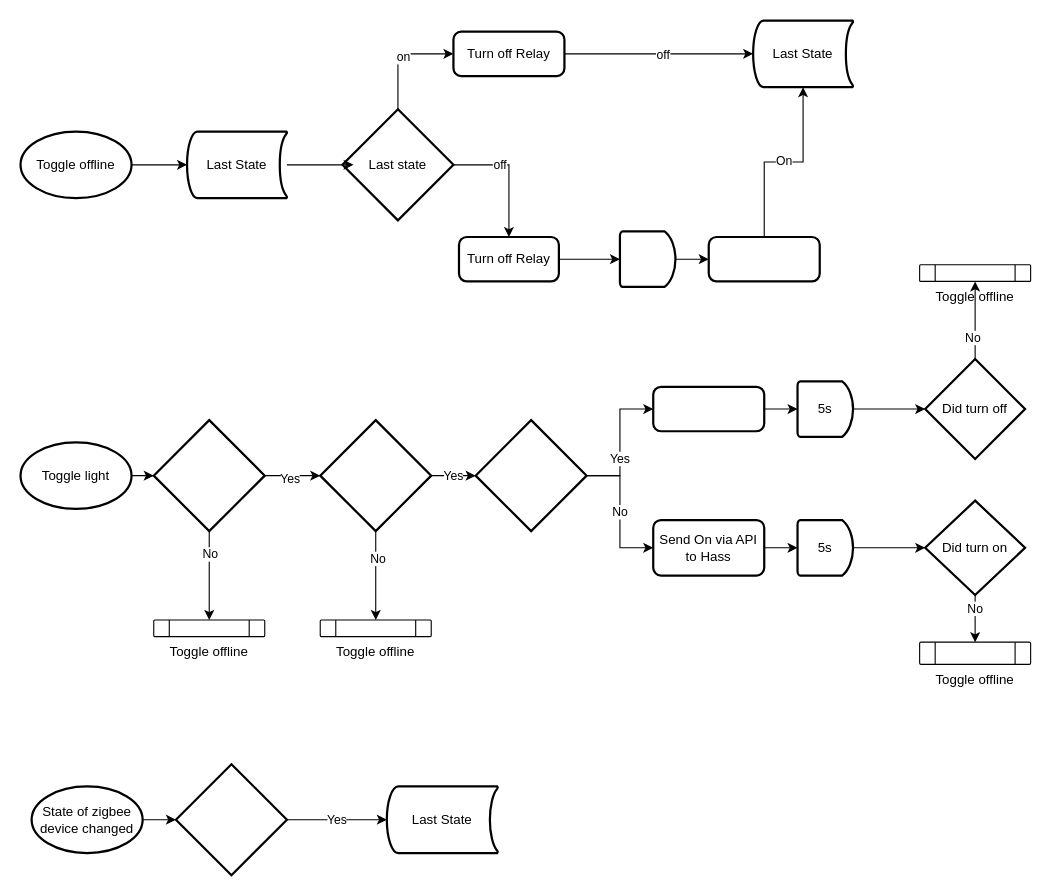
This 1050x895 diagram has some shape labels left out. Each missing label, with the box of its shape:
1s: (618, 230, 676, 287)
Is API connected: (152, 418, 265, 532)
Is available: (174, 763, 287, 876)
Is device available: (319, 418, 432, 532)
Is device on: (474, 418, 587, 532)
Send Off via API to Hass: (652, 385, 765, 432)
Turn on Relay: (707, 235, 820, 282)
